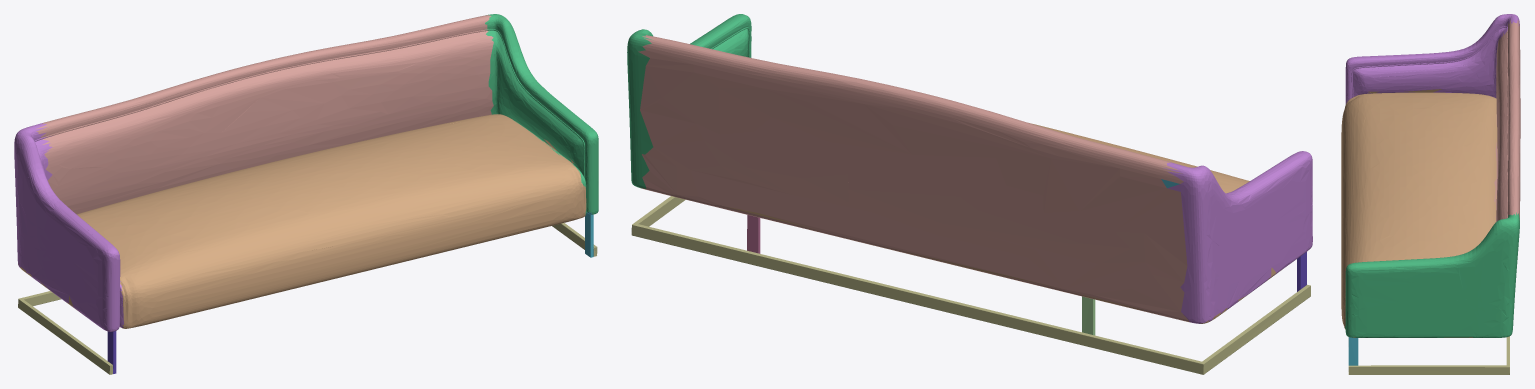
The model's file is old.glb.
3 views of the same model, side by side, from view 1: azimuth 30°, elevation 25°; view 2: azimuth 150°, elevation 25°; view 3: azimuth 270°, elevation 25° (orthographic). The views are drawn at different scales.
Visible parts, largest first — view 1: world; view 2: world; view 3: world.
Part boxes in pixels (<box>): world: <box>14,14,598,374</box>; world: <box>627,14,1312,374</box>; world: <box>1341,14,1520,374</box>.
Size of the model in its own units: 1 by 0.3545 by 0.3565.
